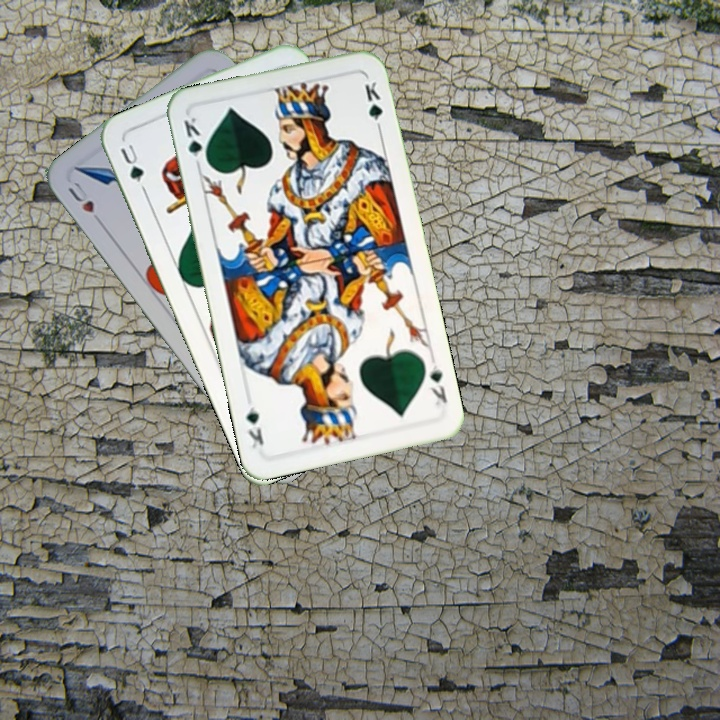GK: (179, 113, 211, 171), (425, 361, 450, 408)
GU: (116, 140, 148, 194)
HU: (64, 177, 107, 227)
